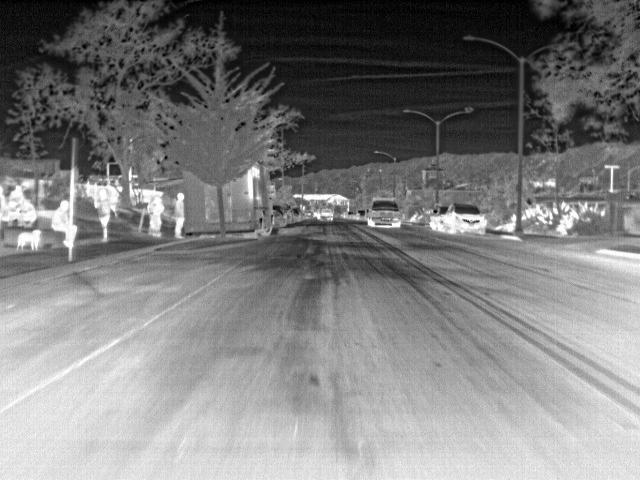car: (444, 204, 487, 234), (366, 199, 403, 227), (428, 206, 447, 232), (316, 207, 335, 223), (353, 208, 366, 221)
dog: (19, 230, 42, 249)
person: (51, 198, 77, 249), (96, 188, 112, 243), (173, 190, 189, 238), (149, 193, 165, 237), (21, 200, 37, 225), (2, 203, 16, 225), (12, 184, 26, 200)
